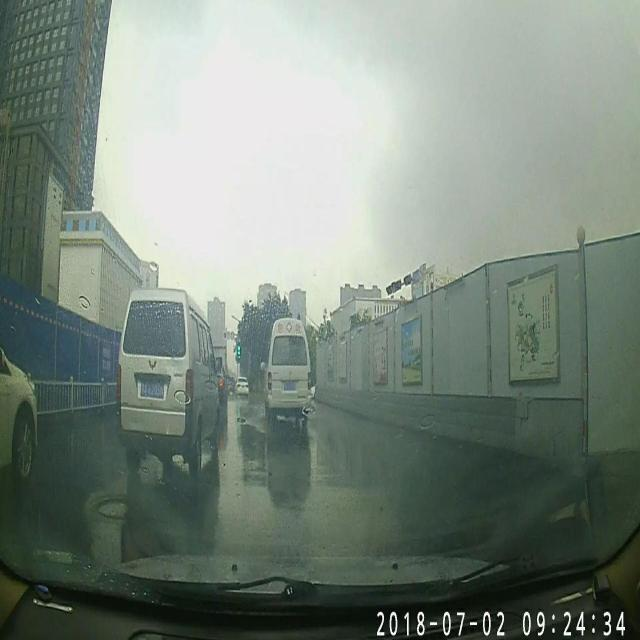car: (115, 288, 218, 475), (0, 338, 38, 486), (266, 318, 310, 420), (218, 360, 228, 408), (234, 374, 250, 398)
